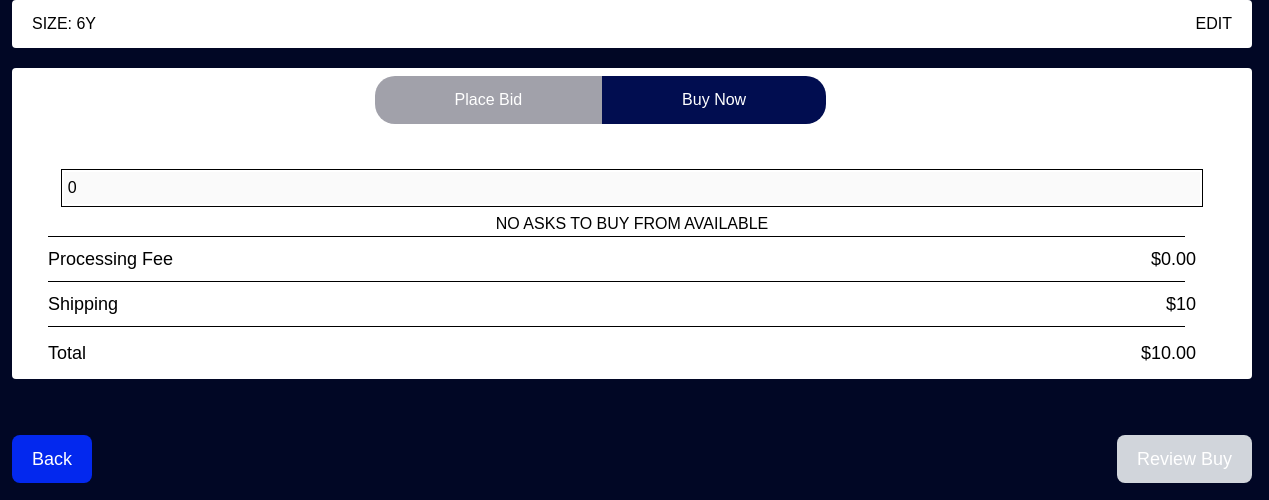
BuyModal Component › should update text after inputing new value
The image size is (1269, 500).
Click the text "Place Bid": (488, 100) x1=374 y1=76 x2=602 y2=124
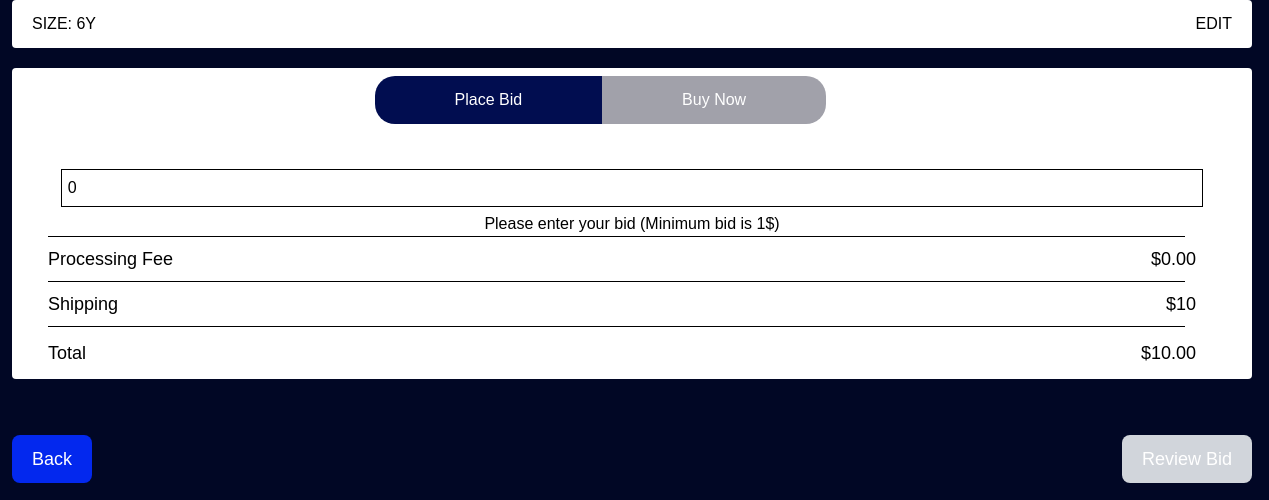
Expected: the text "Please enter your bid (Minimum bid is 1$)" is shown, x1=484 y1=215 x2=780 y2=232
Replace the text in the field showing "0" with "10": (632, 188) x1=64 y1=172 x2=1200 y2=204
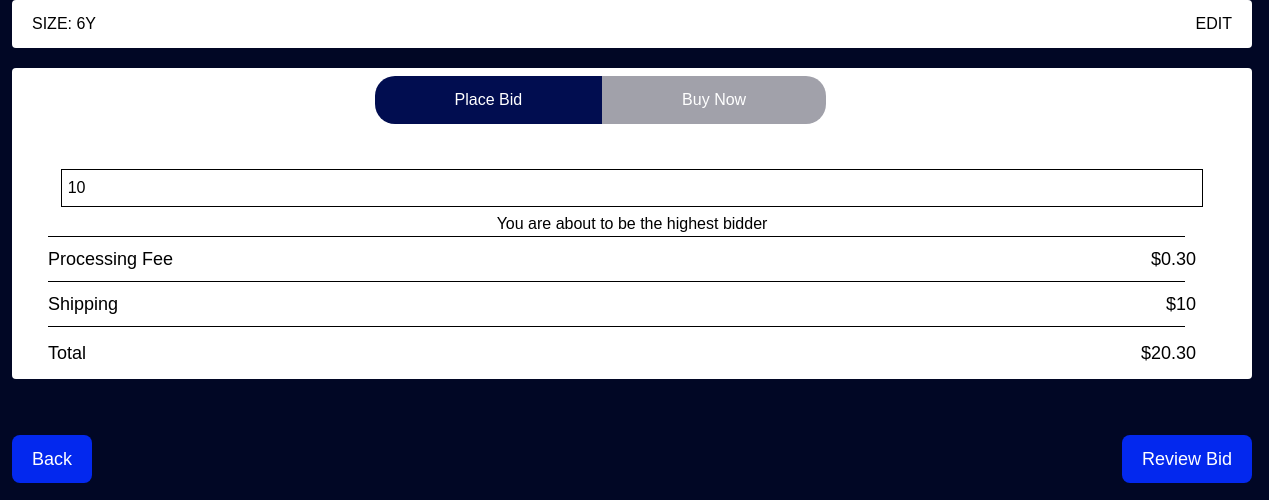
Expected: the text "Please enter your bid (Minimum bid is 1$)" reads "You are about to be the highest bidder", x1=497 y1=215 x2=767 y2=232
